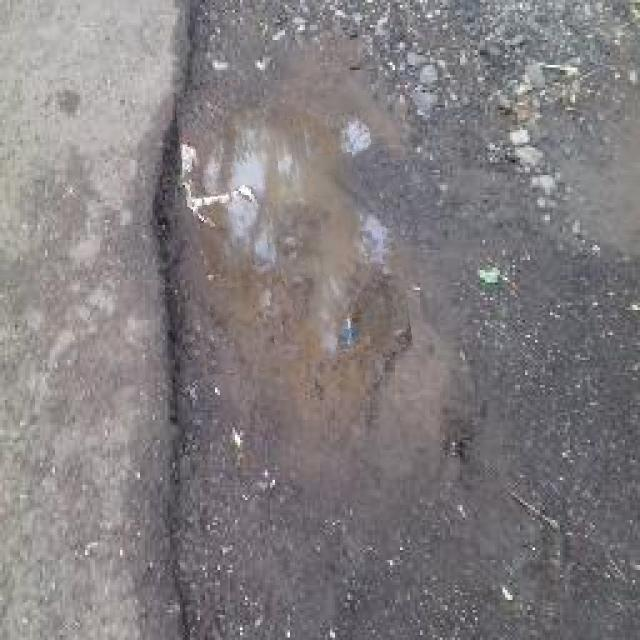puddle: (183, 75, 406, 371)
